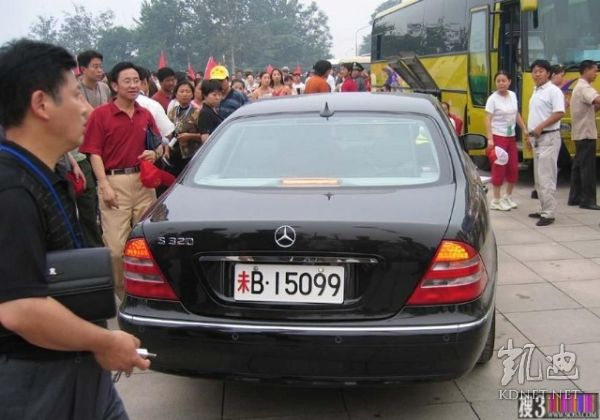plate_number: (232, 260, 347, 302)
